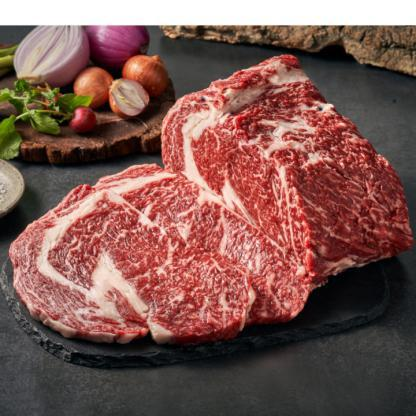beef: (167, 86, 414, 280), (46, 171, 297, 338)
